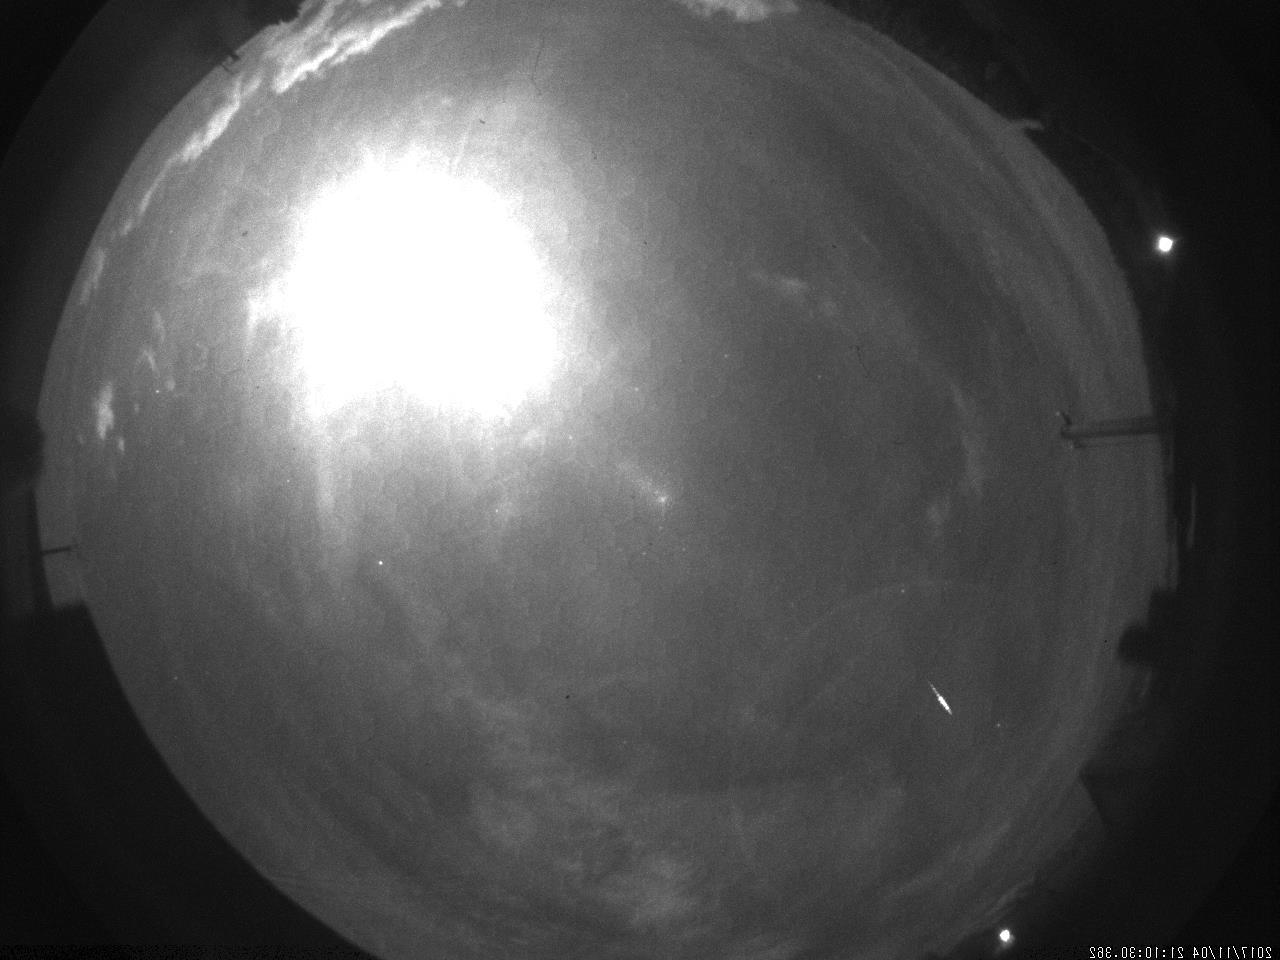meteor: (915, 678, 976, 723)
